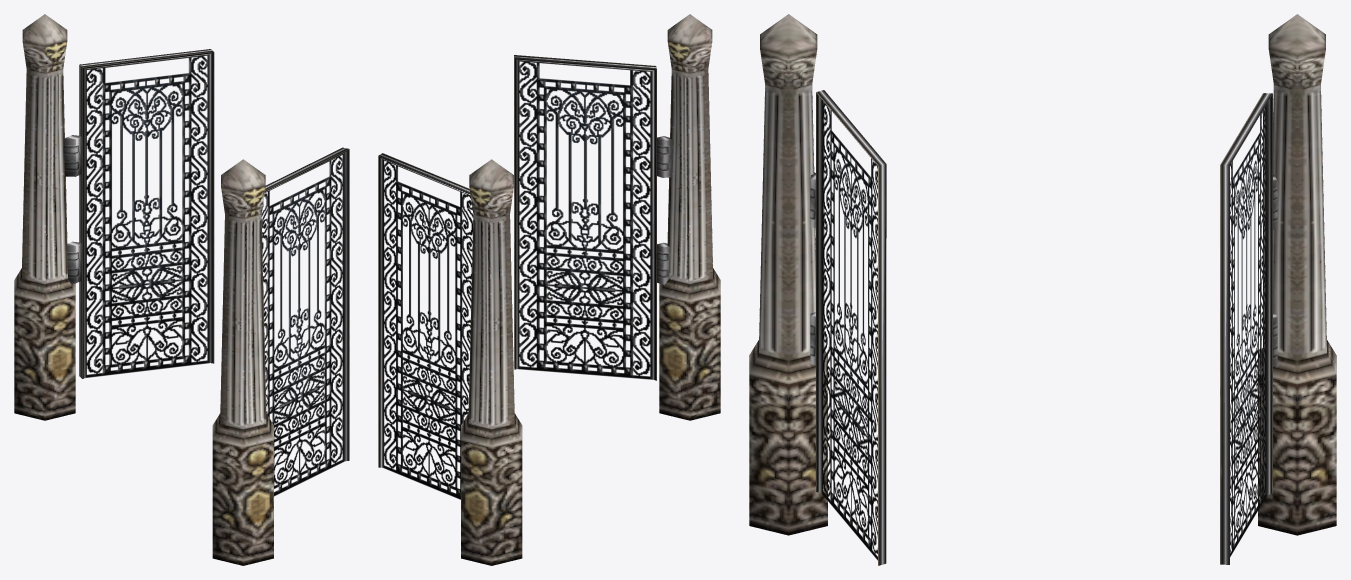
File: rd_fen4.glb
The picture shows the model from 3 angles, left to right: view 1: azimuth 30°, elevation 25°; view 2: azimuth 150°, elevation 25°; view 3: azimuth 270°, elevation 25°; orthographic projection. The views are drawn at different scales.
Parts seen in each view (by area): view 1: rd_fen4-col; view 2: rd_fen4-col; view 3: rd_fen4-col.
Part boxes in pixels (x1,y1,x2,y2): rd_fen4-col: (14,14,349,565); rd_fen4-col: (378,14,720,565); rd_fen4-col: (749,14,1336,565).
Size of the model in its own units: 2.07 by 4.51 by 4.78.
2 materials, 2 textured.
